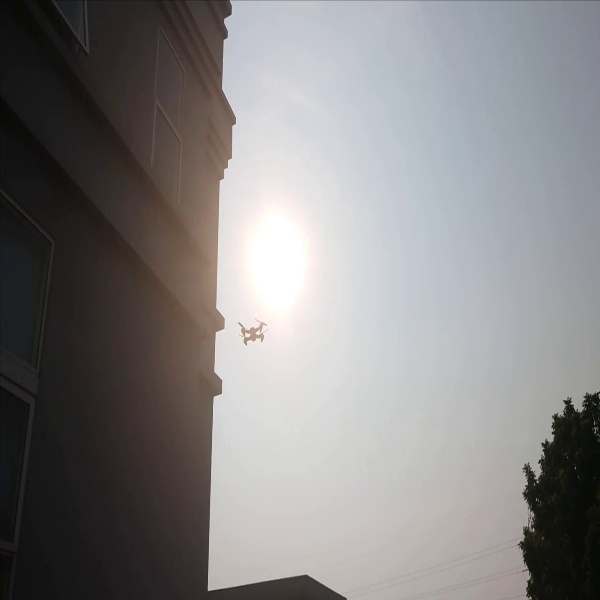drone: (233, 313, 274, 351)
